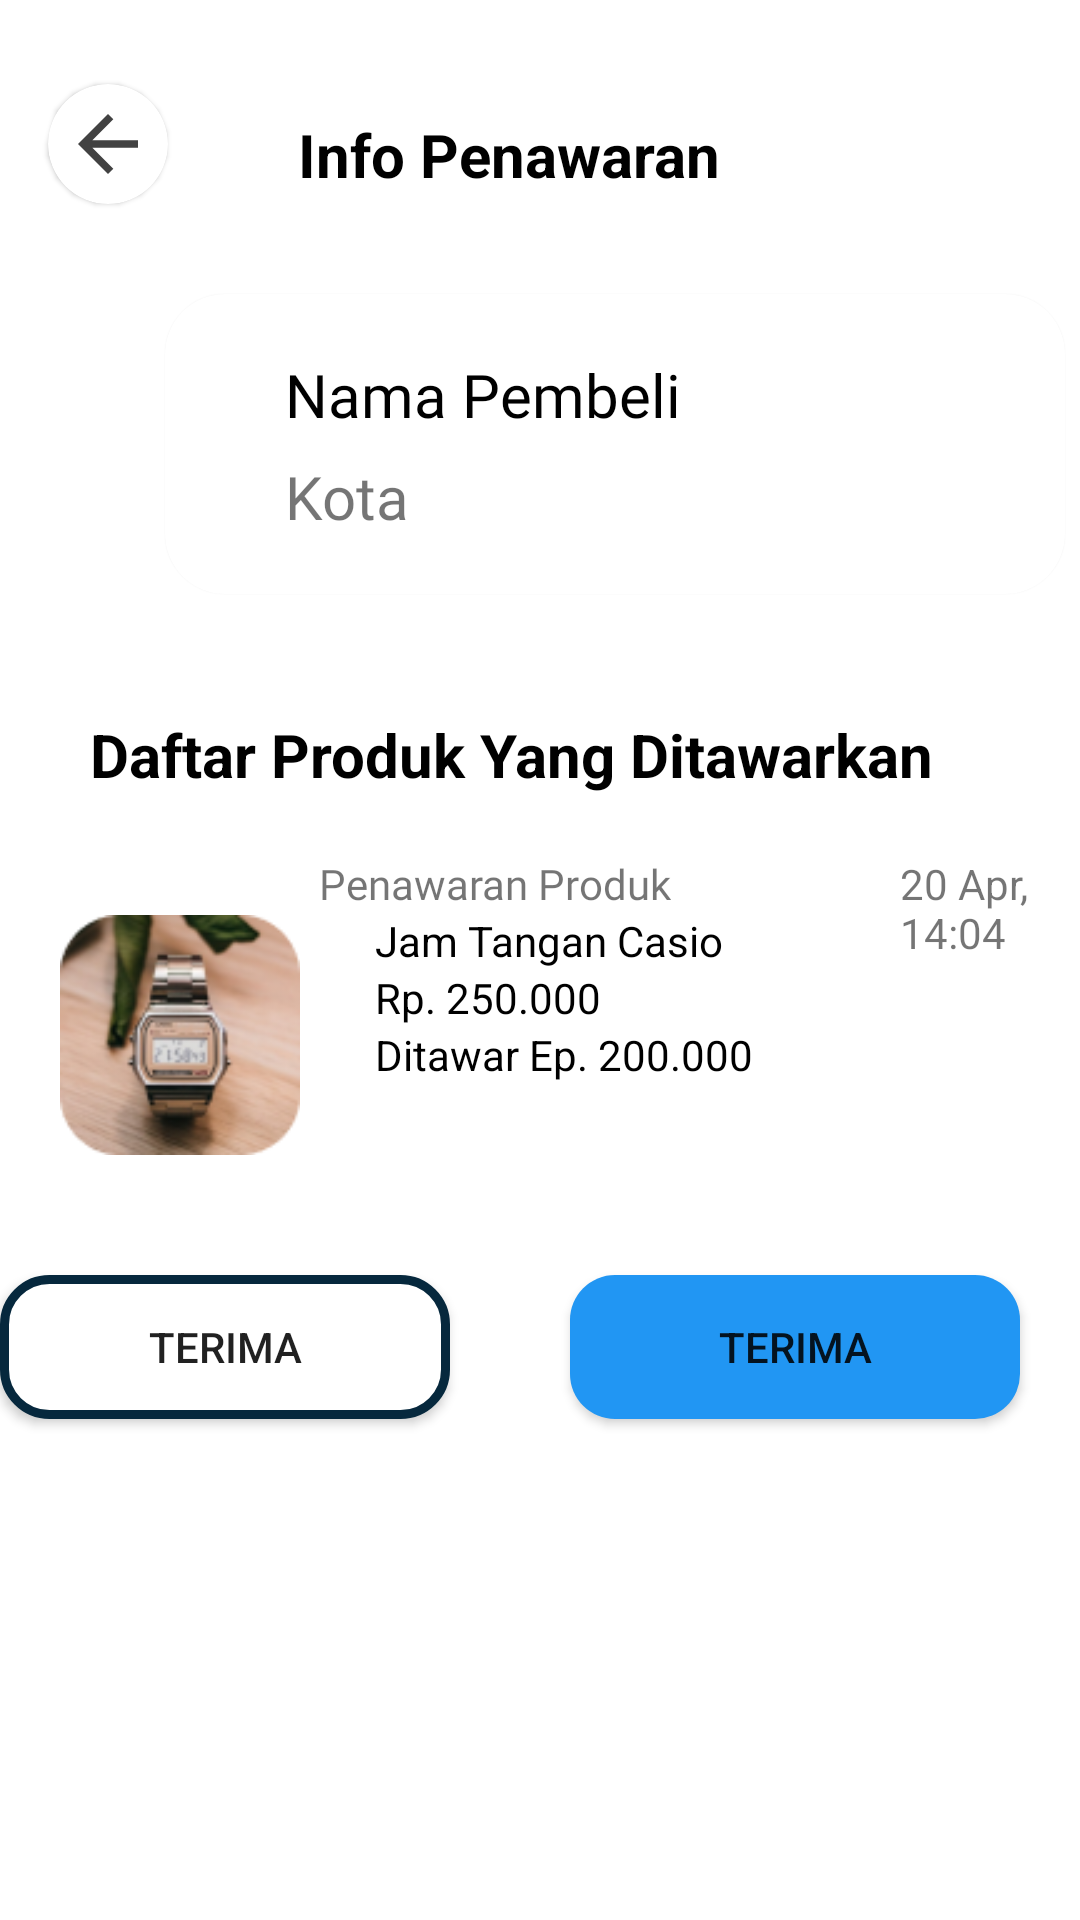

Where icons sit on this 1080×1920 app screen, as (x1, y1, x2, y2):
back smaller: (48, 85, 138, 204)
